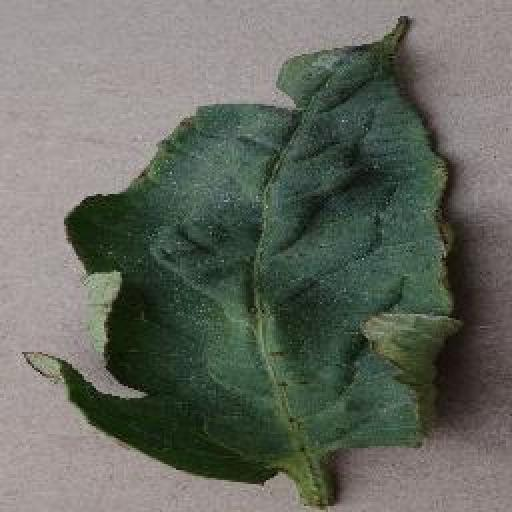Bacterial Spot: (15, 11, 471, 512)
